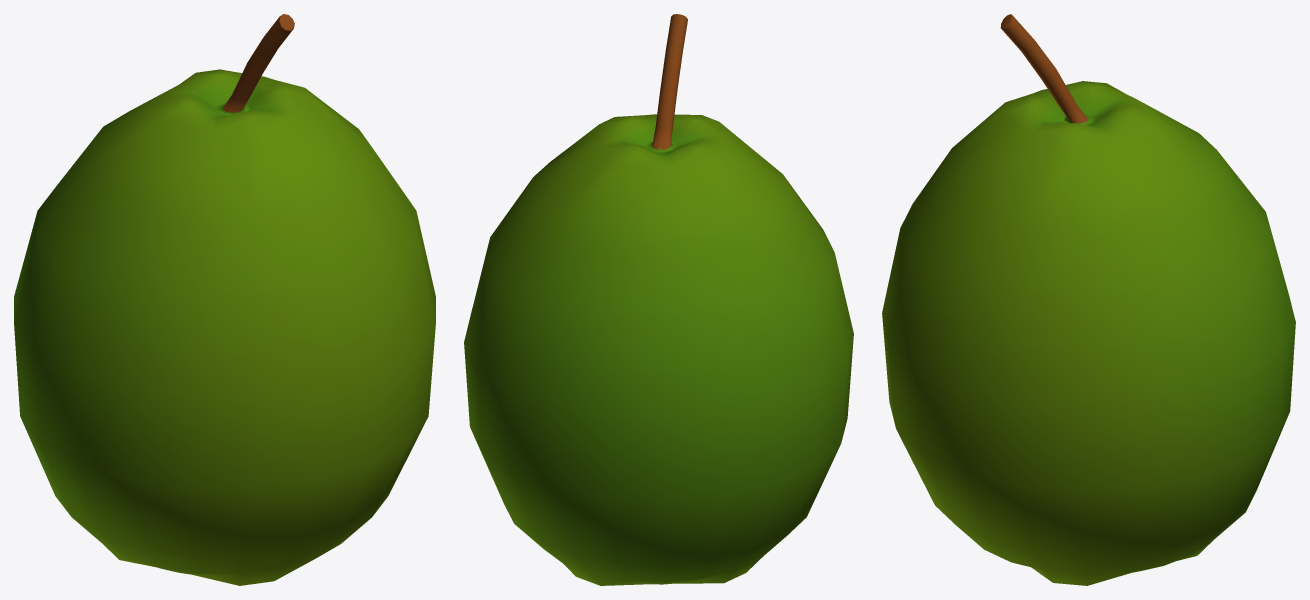
File: Guava.fbx
The picture shows the model from 3 angles, left to right: view 1: azimuth 30°, elevation 25°; view 2: azimuth 150°, elevation 25°; view 3: azimuth 270°, elevation 25°; orthographic projection. The views are drawn at different scales.
Parts seen in each view (by area): view 1: Guava; view 2: Guava; view 3: Guava.
Boxes of the visible parts, x1,y1,x2,y2 form: Guava: (14, 14, 435, 585); Guava: (464, 14, 853, 585); Guava: (882, 14, 1295, 585).
Size of the model in its own units: 147 by 212 by 147.
1 material, 1 textured.
